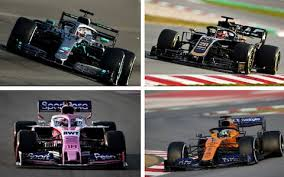FormulaOneCar: (5, 7, 139, 88), (146, 14, 282, 79), (12, 97, 129, 170), (161, 112, 284, 171)
